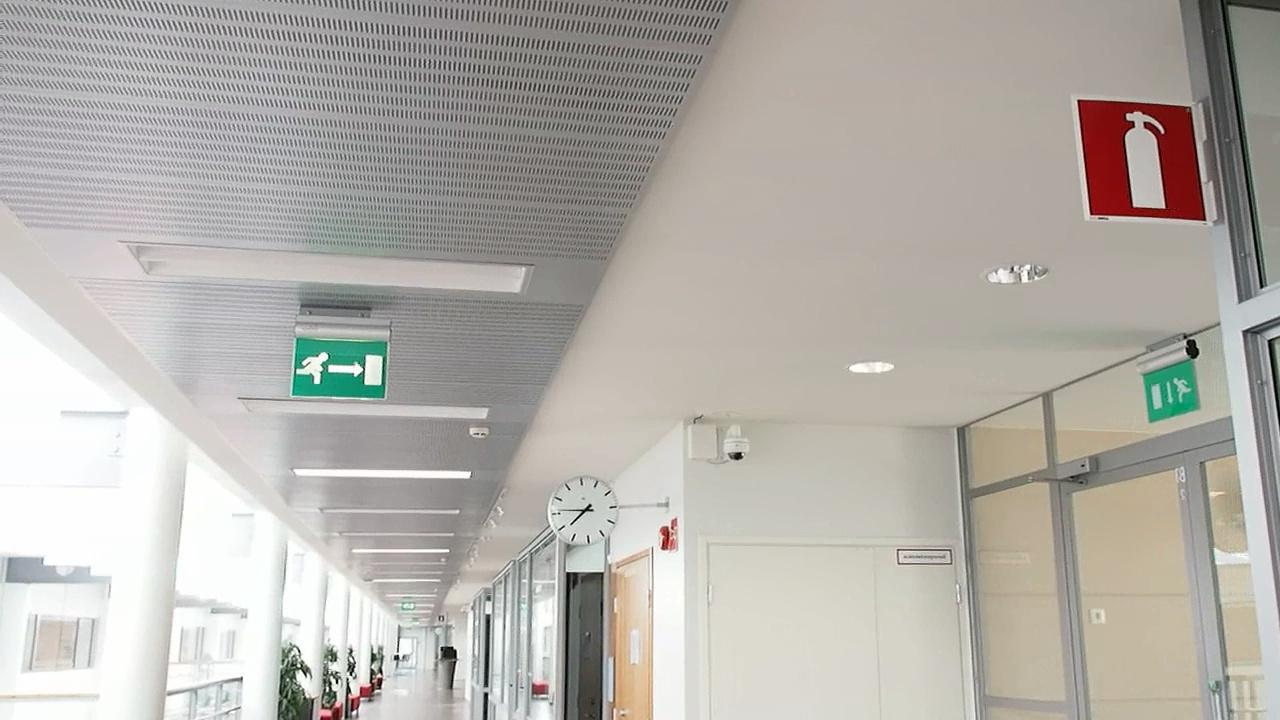clock: (545, 478, 621, 550)
exit: (282, 338, 386, 404), (1140, 360, 1199, 420)
fireextinguisher: (1086, 97, 1204, 221)
